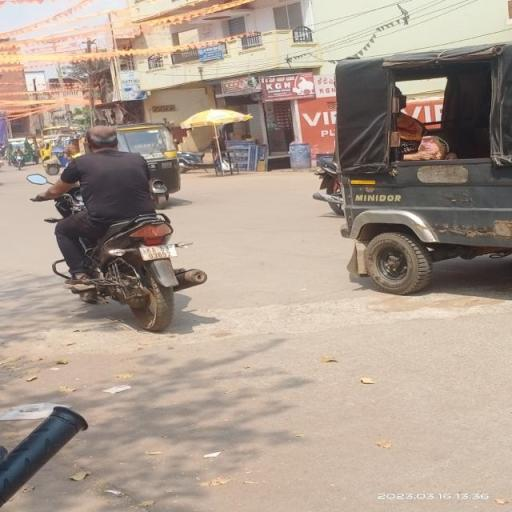bike: (25, 122, 209, 333)
numberplate: (142, 243, 178, 259)
withouthelmet: (86, 126, 118, 152)
